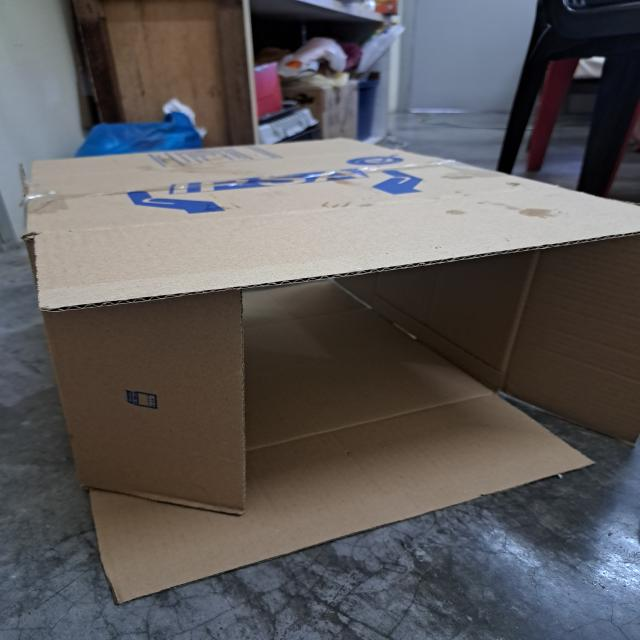cardboard: (28, 142, 640, 602)
plastic bag: (67, 113, 206, 157)
